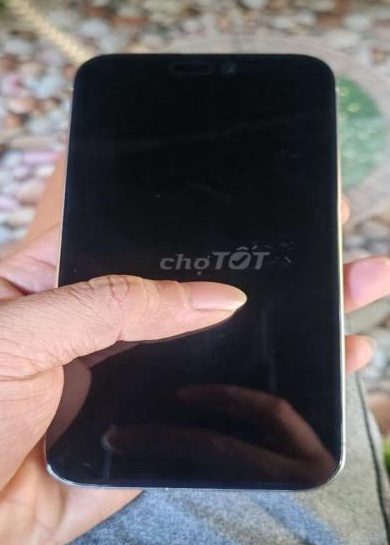physical_damage: (44, 460, 114, 491)
